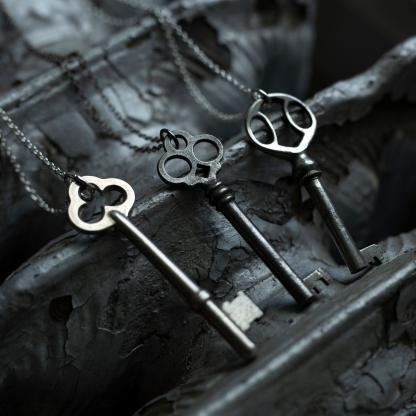key: (40, 171, 268, 372), (140, 107, 396, 275)
